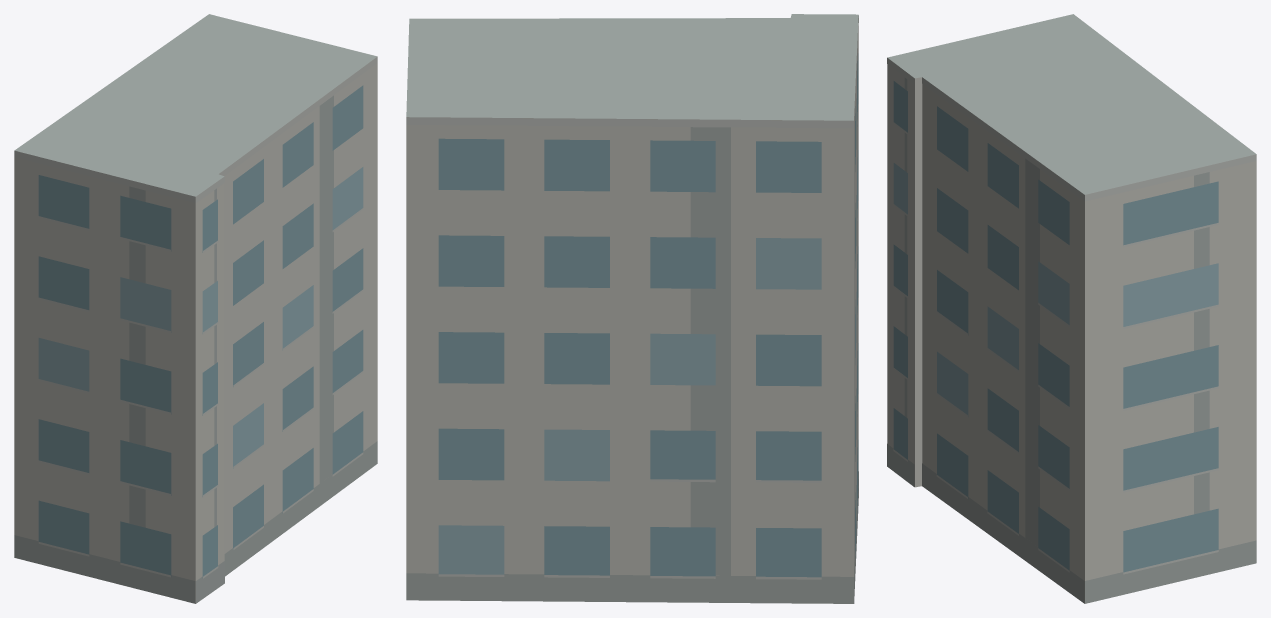
Rendered from survey-upis-32701563.glb.
3 views of the same model, side by side, from view 1: azimuth 30°, elevation 25°; view 2: azimuth 150°, elevation 25°; view 3: azimuth 270°, elevation 25° (orthographic). The views are drawn at different scales.
Visible parts, largest first — view 1: survey-upis-32701563.tmp; view 2: survey-upis-32701563.tmp; view 3: survey-upis-32701563.tmp.
Boxes of the visible parts, x1=… form: survey-upis-32701563.tmp: x1=14, y1=14, x2=377, y2=603; survey-upis-32701563.tmp: x1=406, y1=14, x2=858, y2=603; survey-upis-32701563.tmp: x1=887, y1=14, x2=1256, y2=603.
Bounding box in the file's own units: 14.43 × 15.2 × 12.45.
